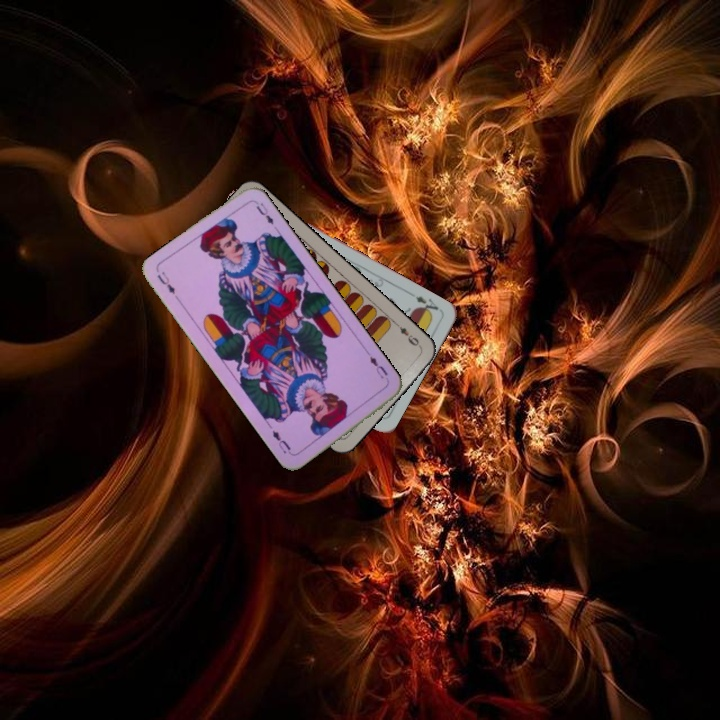E9: (391, 319, 424, 350)
EA: (411, 292, 441, 318)
EU: (365, 352, 391, 381), (153, 267, 178, 296)
